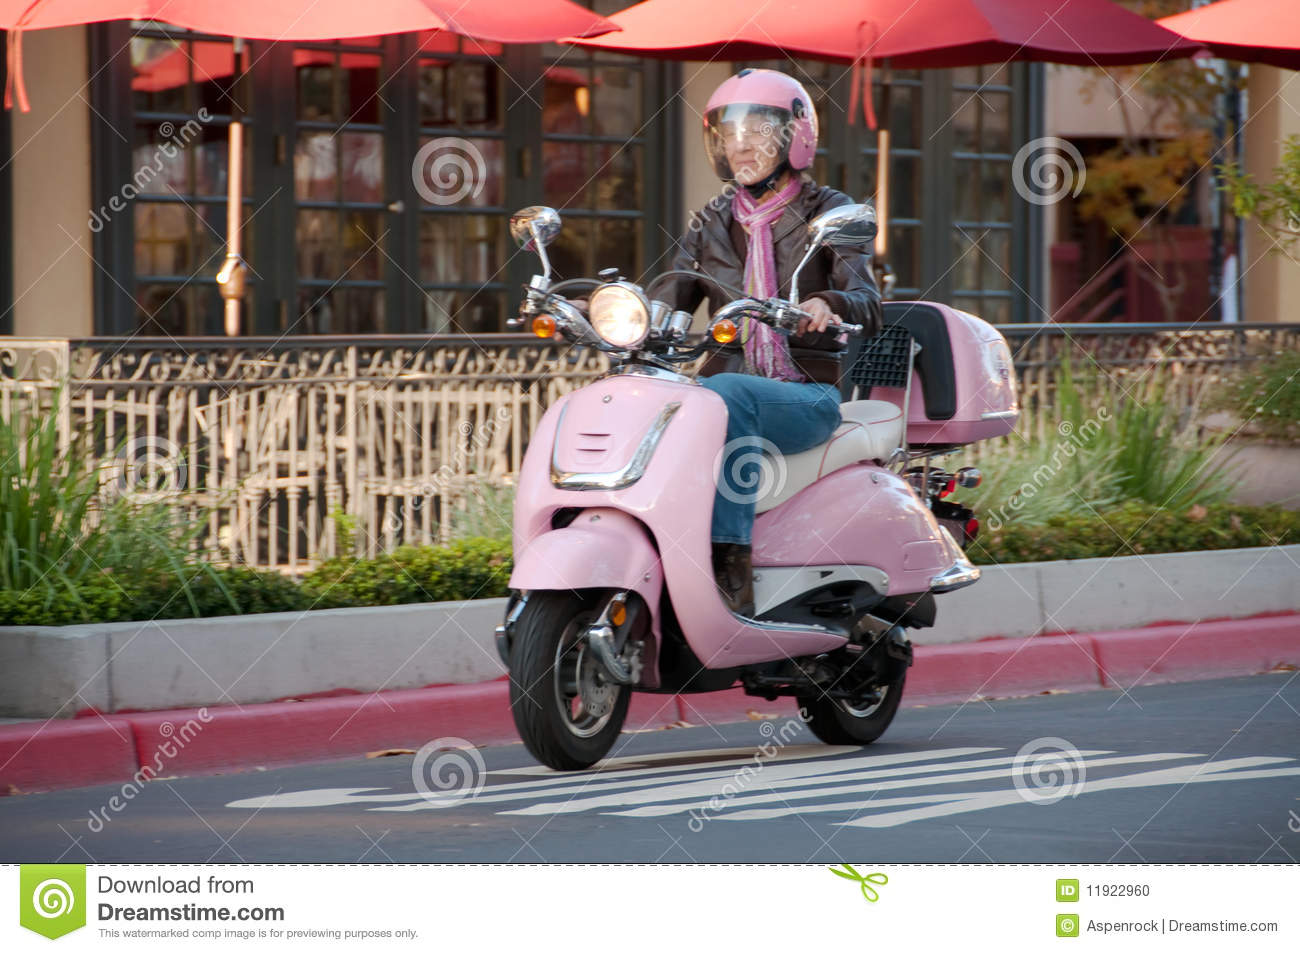helmet: (705, 74, 832, 183)
